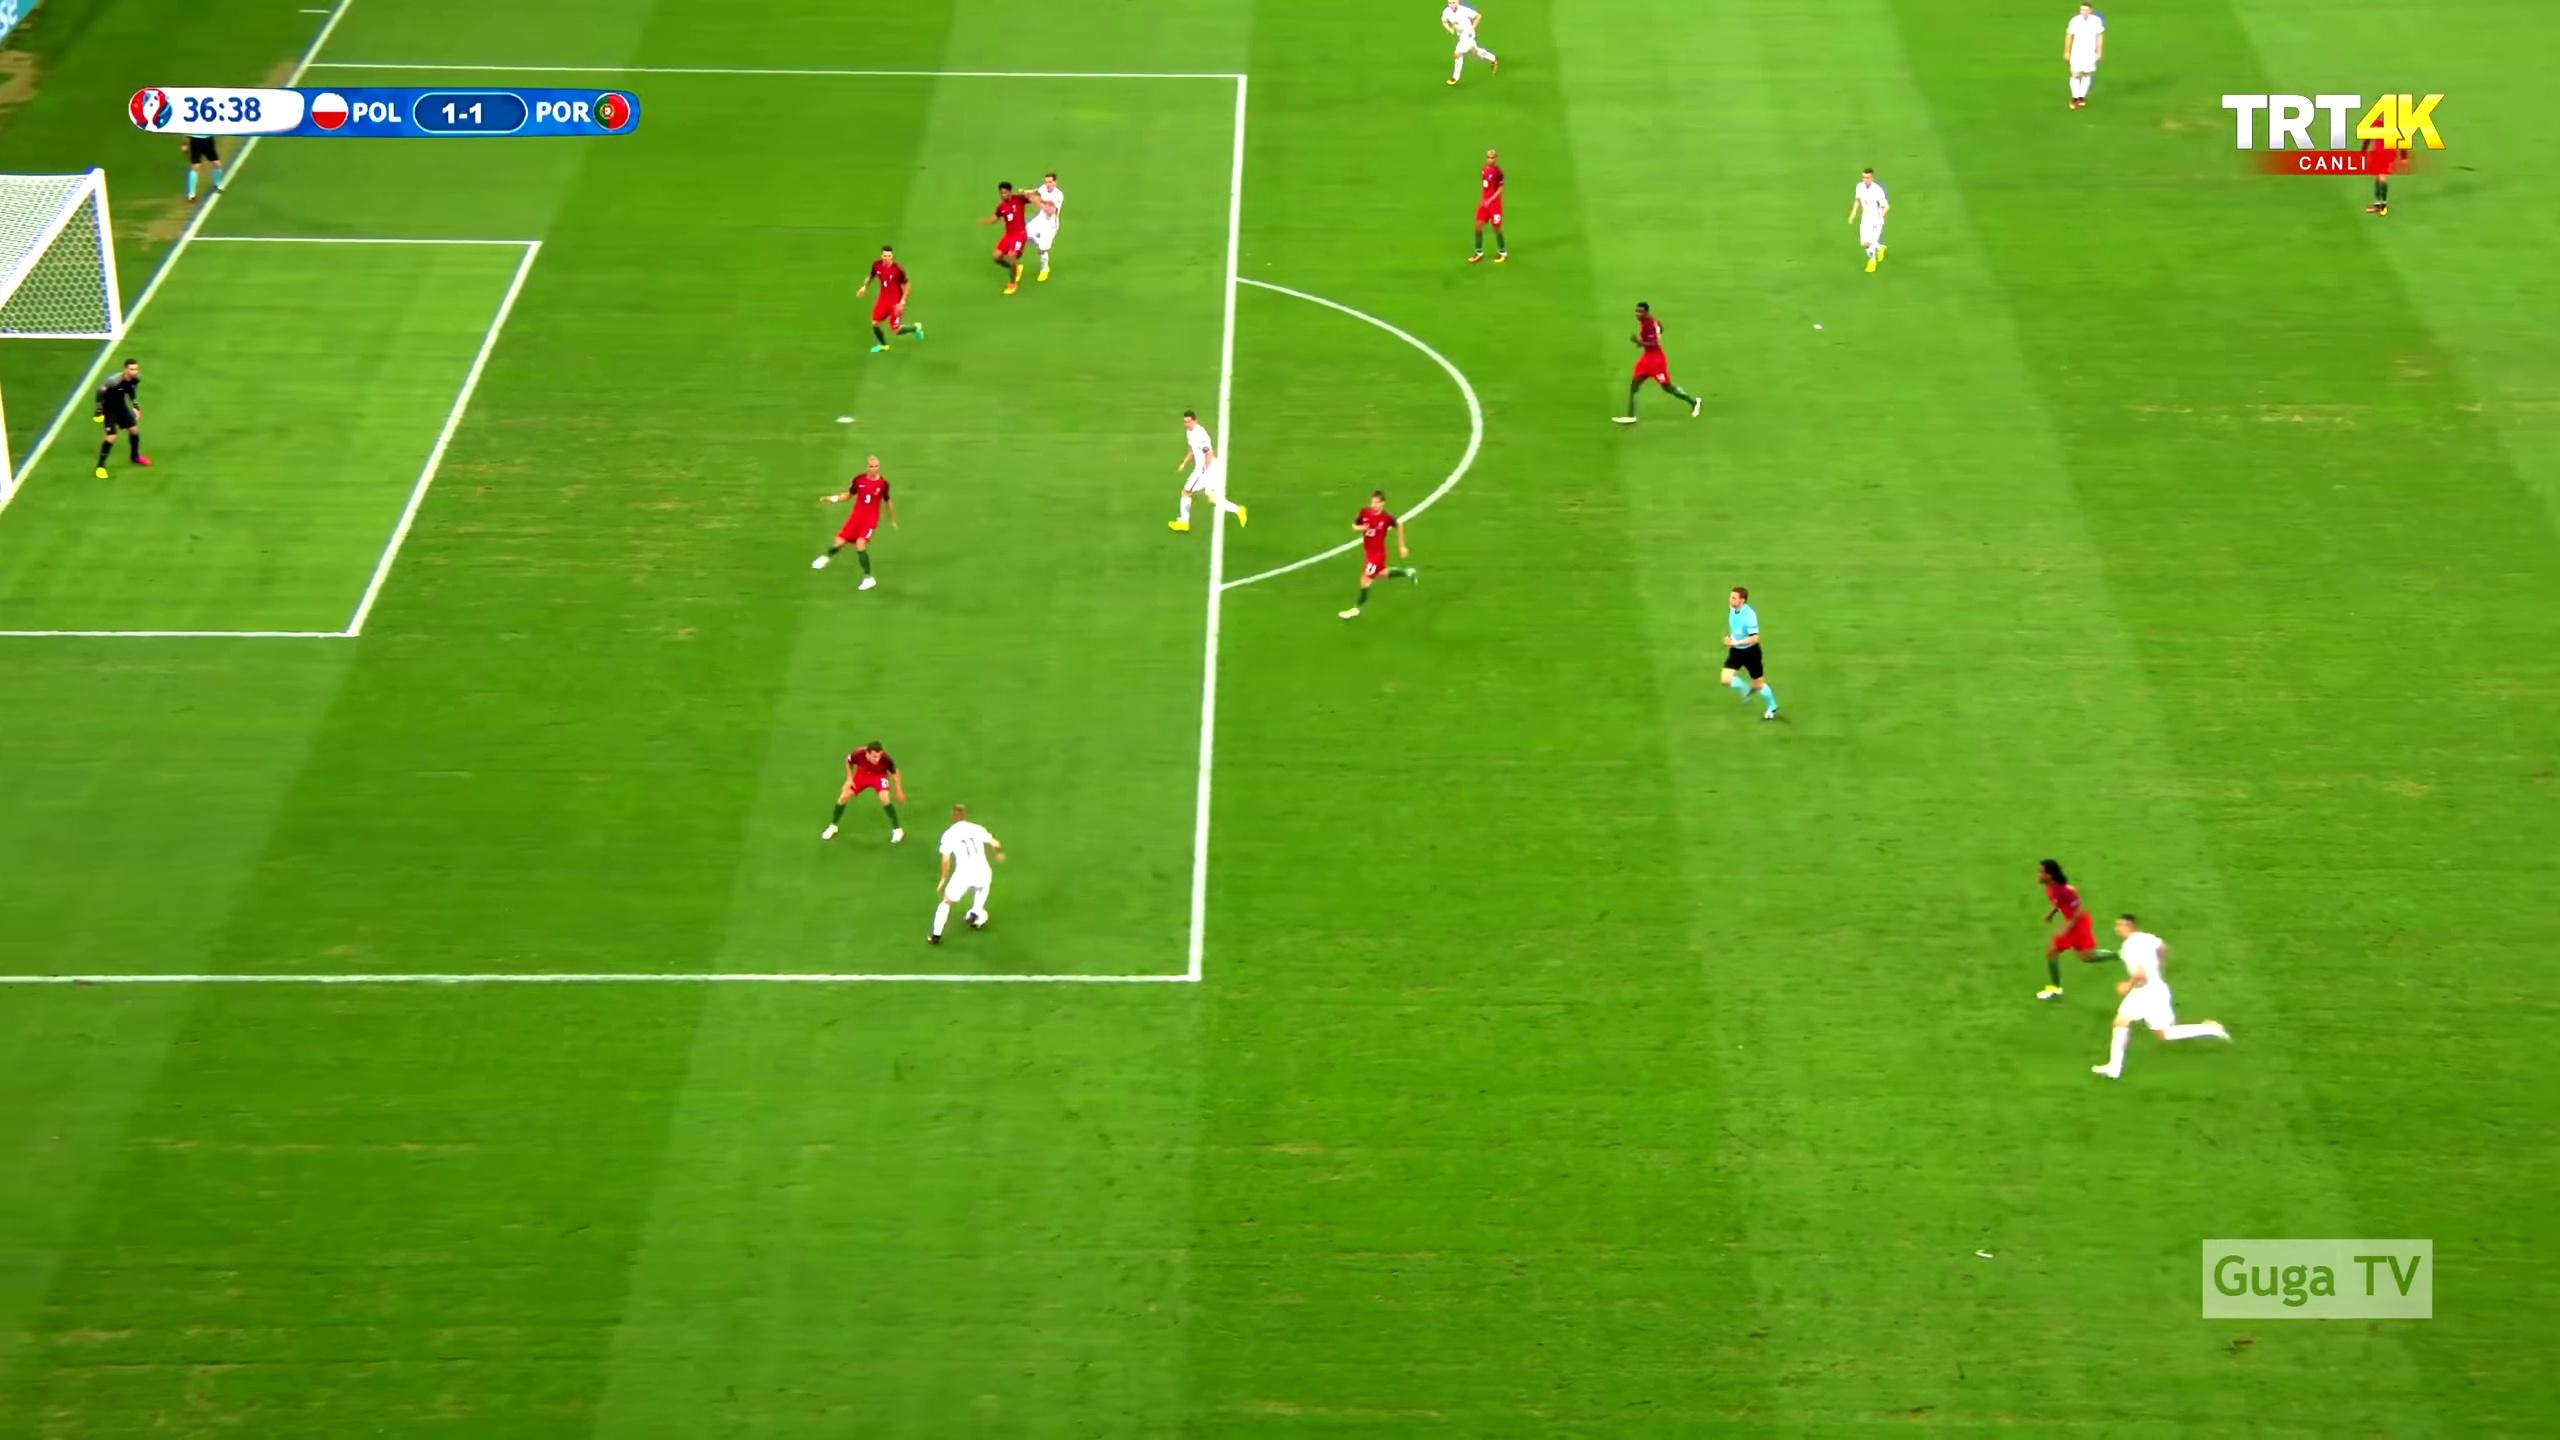ball: (963, 900, 997, 938)
goalkeeper: (89, 353, 161, 484)
player: (2086, 908, 2239, 1086), (2029, 855, 2134, 1004), (919, 797, 1011, 951), (806, 451, 904, 595), (1607, 294, 1709, 432), (1334, 486, 1424, 626), (816, 736, 914, 850), (1164, 406, 1249, 536), (850, 239, 931, 358), (974, 176, 1047, 299), (1840, 161, 1900, 277), (1463, 143, 1516, 271), (2358, 100, 2412, 224), (1434, 0, 1503, 96), (2058, 0, 2109, 120), (1021, 169, 1069, 287)
referee: (1713, 581, 1790, 734), (179, 133, 231, 201)
